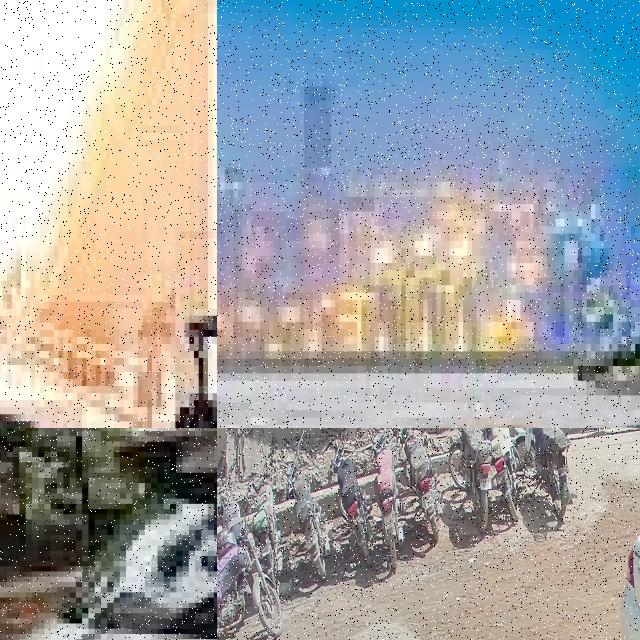bike: (375, 263, 640, 428), (0, 238, 217, 428), (217, 524, 283, 640), (286, 430, 331, 581), (331, 428, 373, 566), (244, 444, 282, 586), (396, 428, 443, 541), (514, 428, 572, 518), (448, 428, 493, 532), (371, 428, 403, 569), (481, 428, 522, 521), (217, 455, 245, 542)
car: (0, 428, 217, 640)
